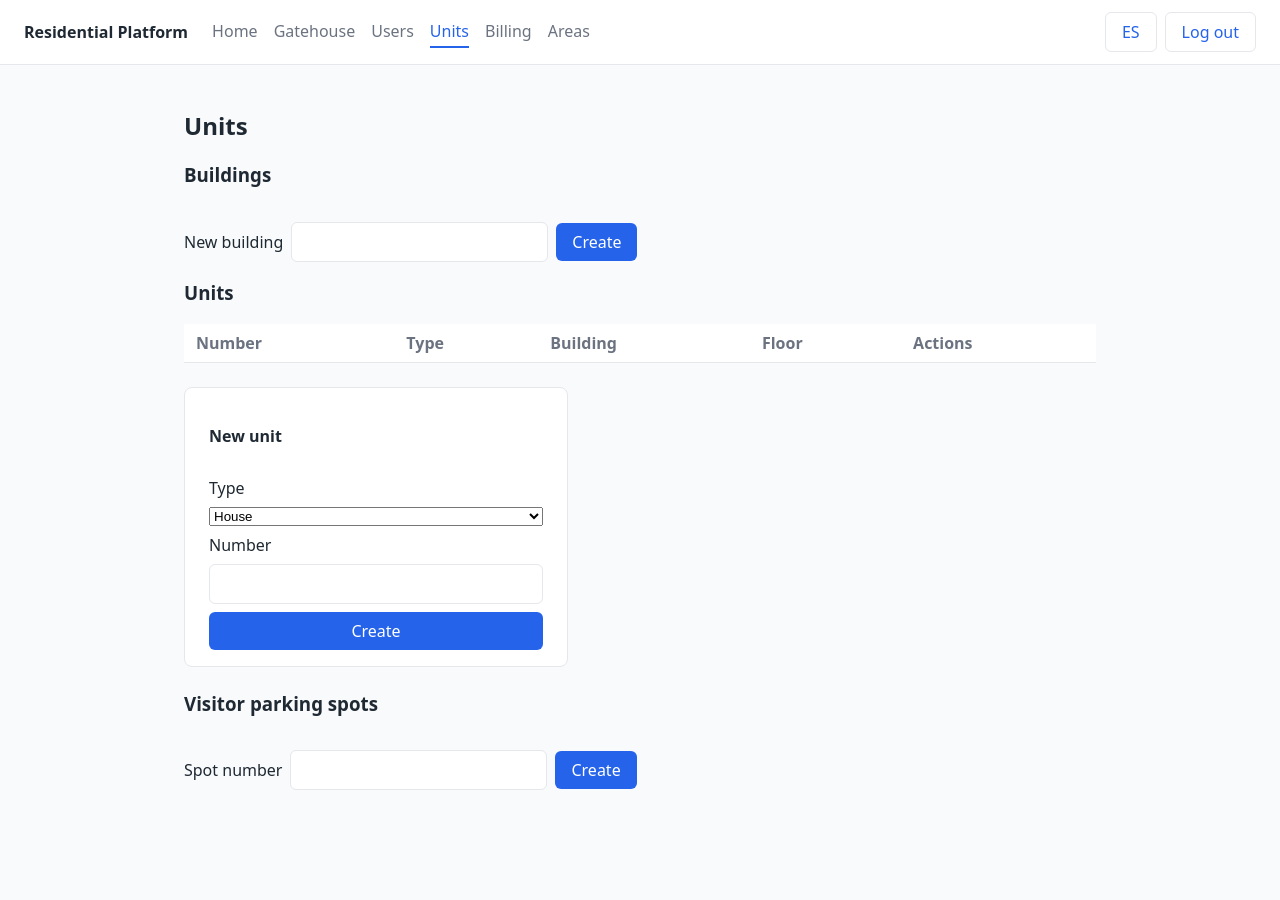
Scenario: admin pages › creates a house from the units admin page
This screenshot has width=1280, height=900.
Type "H-1" into the field labelled "Number" at (376, 584), box [209, 564, 543, 604]
Then press Enter
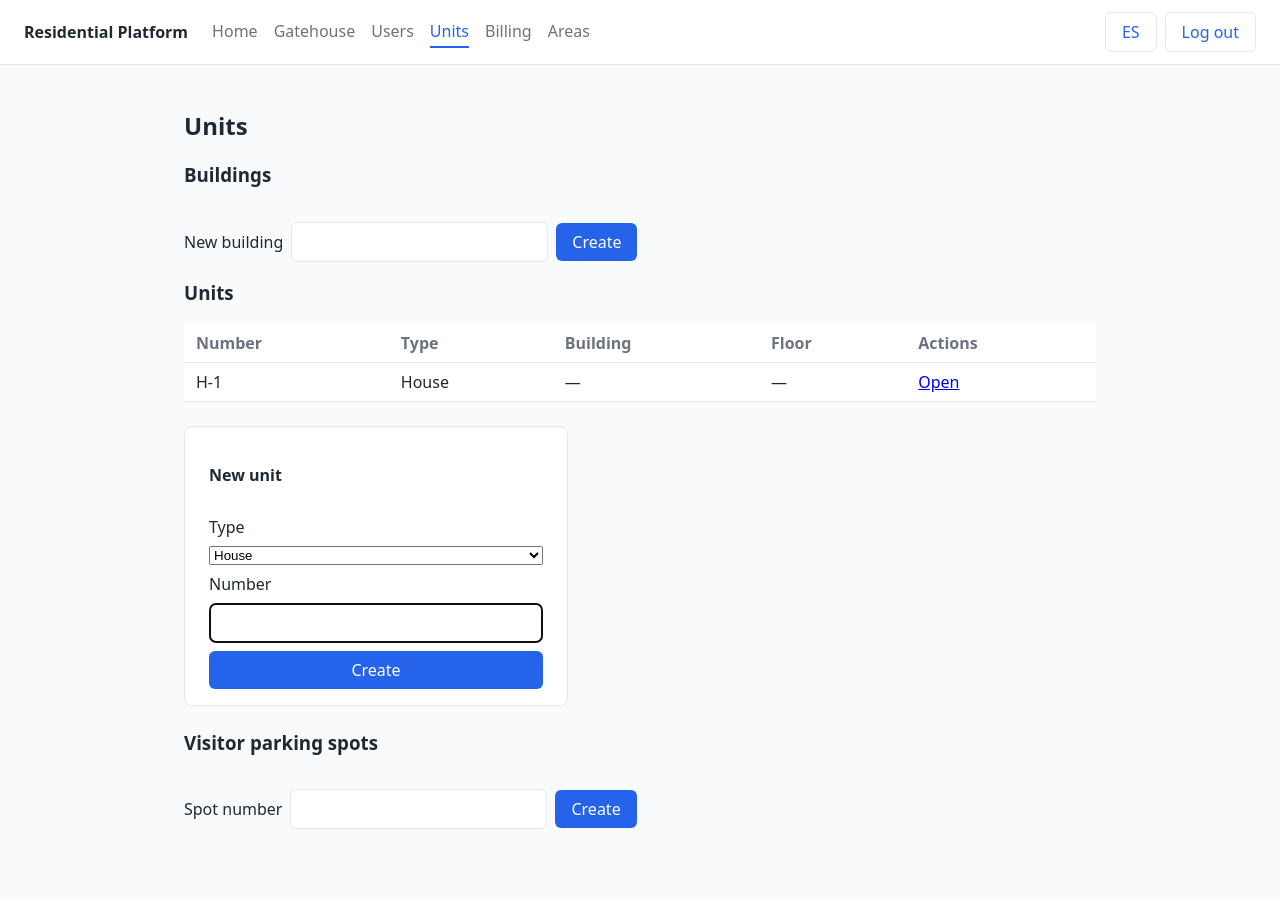
expect the text "H-1" is shown: met, box [184, 362, 389, 402]
